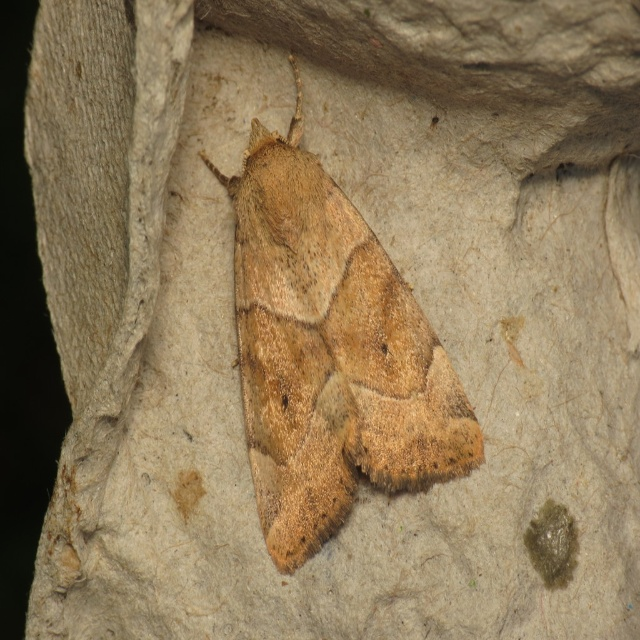Moths and butterflies: (199, 53, 485, 573)
